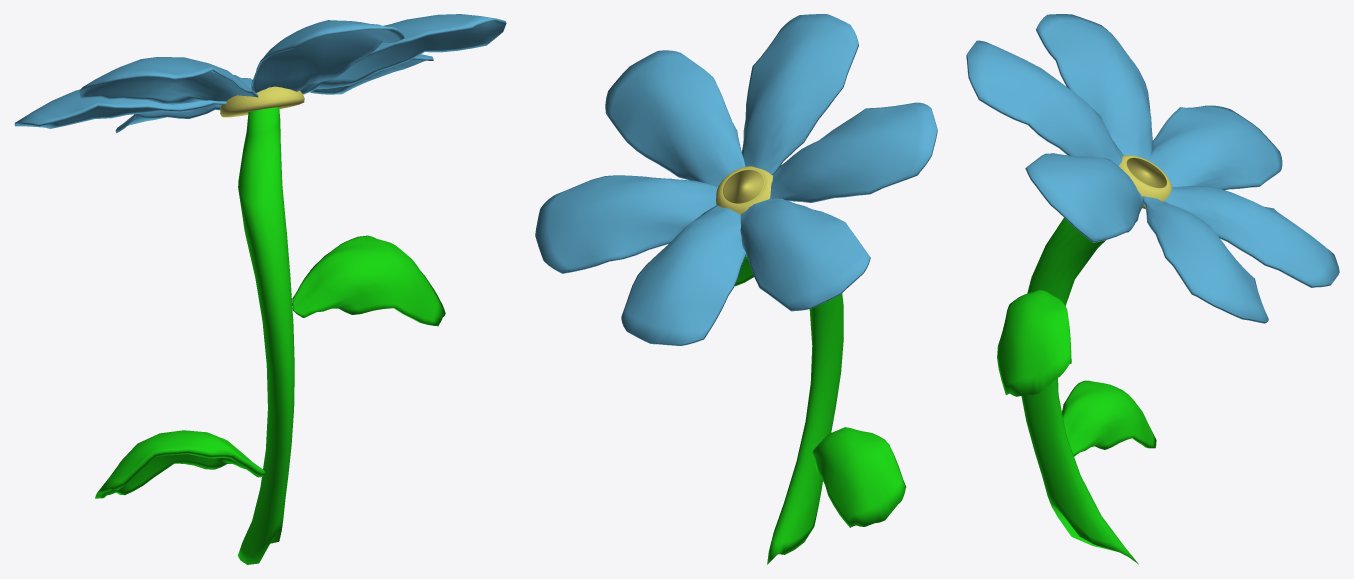
Rendered from Flower_Blue.fbx.
3 renders of one model, left to right at view 1: azimuth 30°, elevation 25°; view 2: azimuth 150°, elevation 25°; view 3: azimuth 270°, elevation 25°, orthographic. The views are drawn at different scales.
Visible parts, largest first — view 1: Flower_Blue; view 2: Flower_Blue; view 3: Flower_Blue.
Boxes of the visible parts, <box> form: Flower_Blue: <box>14,14,506,564</box>; Flower_Blue: <box>535,14,937,564</box>; Flower_Blue: <box>966,14,1339,564</box>.
Bounding box in the file's own units: 1377 × 1899 × 1234.
